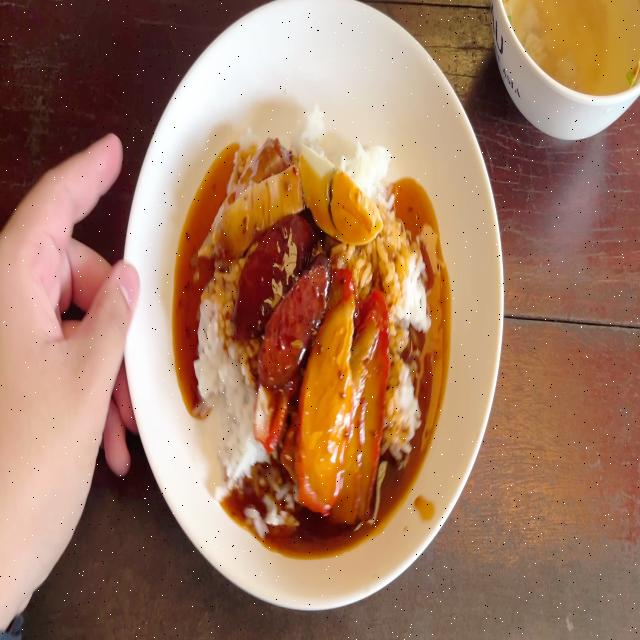boiled_egg: (300, 145, 383, 251)
chainese_sausage: (238, 220, 328, 374)
crispy_pork: (204, 131, 298, 255)
red_pork: (298, 291, 386, 521)
red_pork_and_crispy_pork: (189, 108, 418, 520)
rice: (198, 373, 248, 509), (194, 269, 236, 401), (374, 228, 426, 318), (350, 136, 383, 184)
